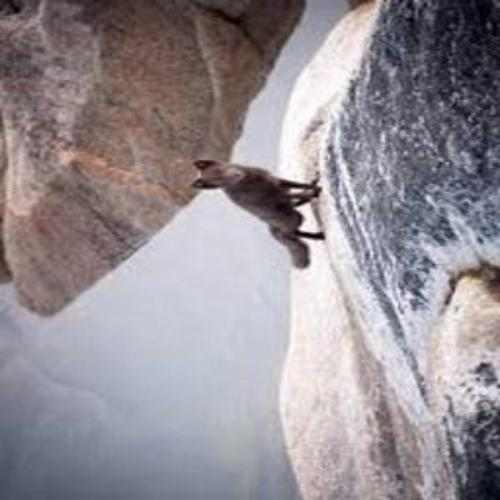arctic_fox-endangered: (190, 158, 327, 268)
